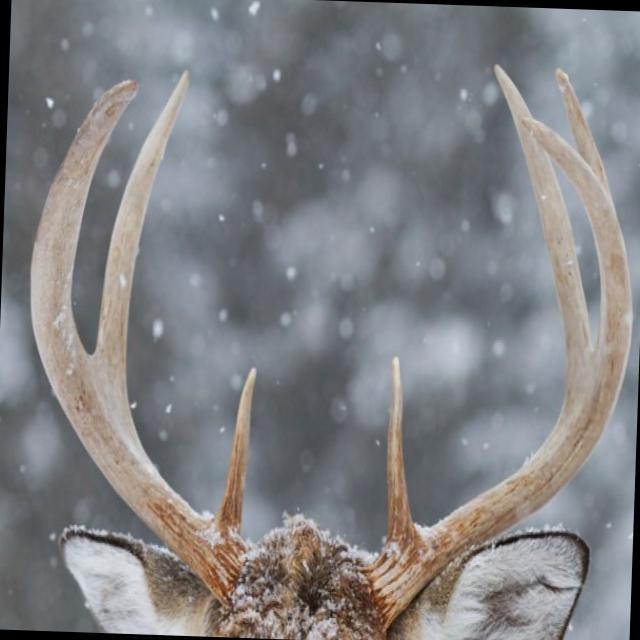L-F: (358, 116, 632, 633)
L-G1: (386, 353, 414, 538)
R-F: (29, 79, 247, 609)
R-G1: (214, 365, 258, 537)
R-G2: (94, 70, 190, 384)
